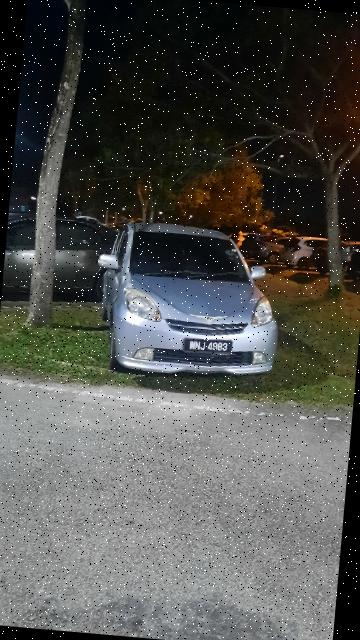License_Plate: (181, 332, 238, 363)
car: (89, 209, 298, 394)
